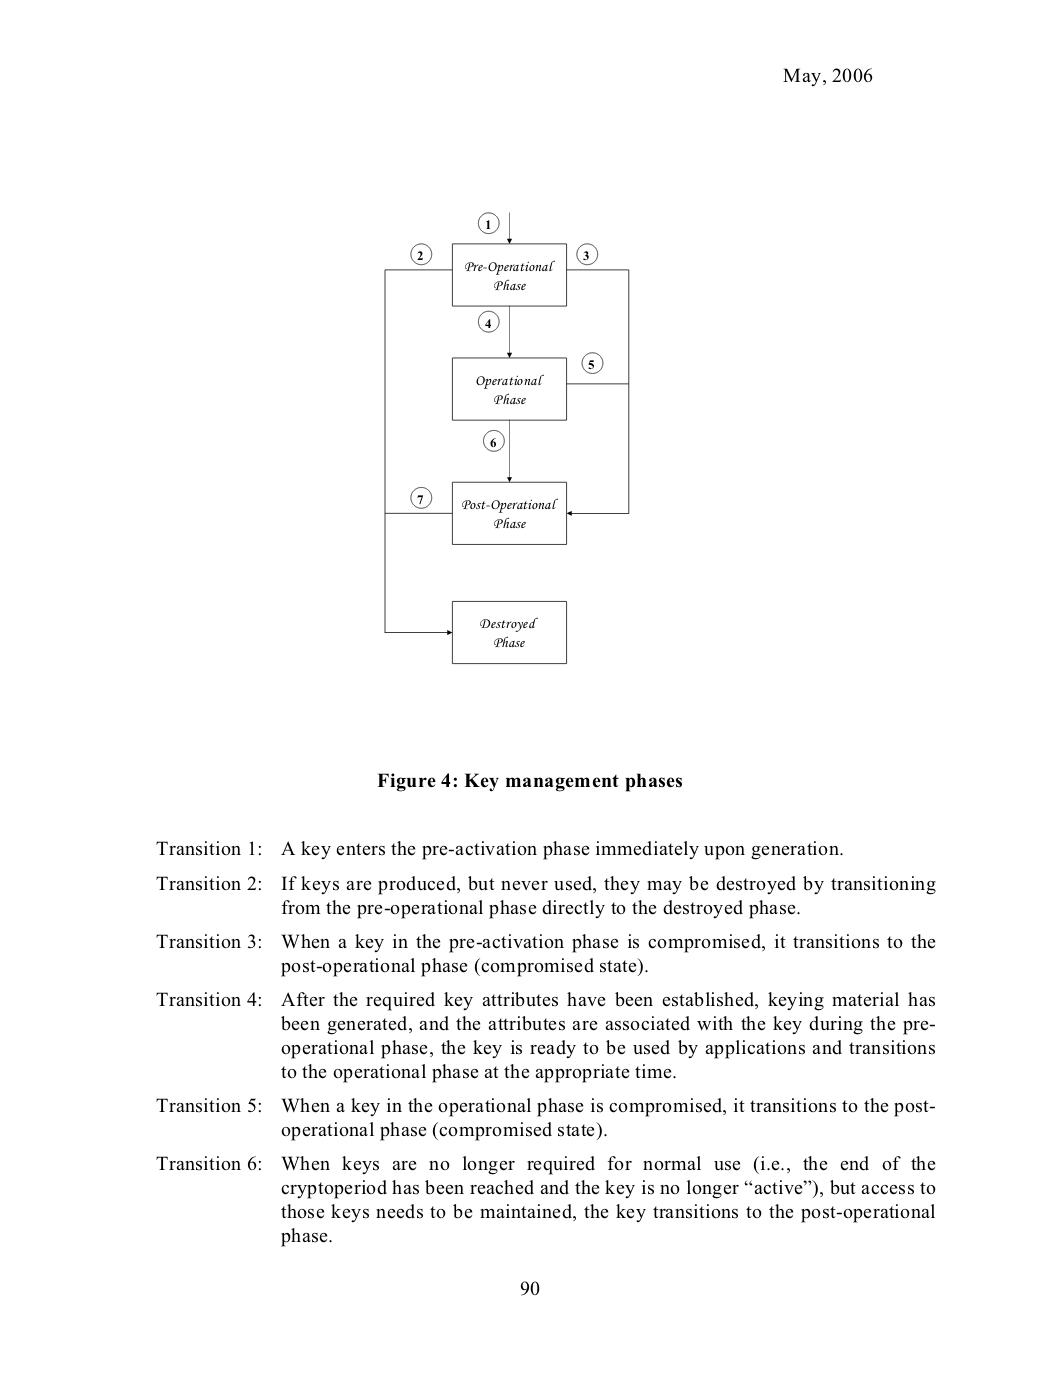figure: (385, 211, 629, 665)
